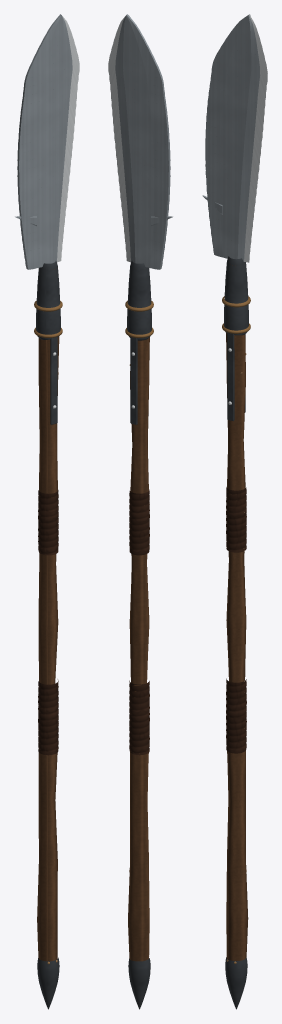
Rendered from glaive.glb.
3 renders of one model, left to right at view 1: azimuth 30°, elevation 25°; view 2: azimuth 150°, elevation 25°; view 3: azimuth 330°, elevation 25°, orthographic.
Parts seen in each view (by area): view 1: steel / forged blade steel, wood / oiled hardwood, darksteel / oil-blackened fittings, leather / oiled leather wrap, edge / honed bright bevel, bronze / cast bronze with patina; view 2: steel / forged blade steel, wood / oiled hardwood, darksteel / oil-blackened fittings, leather / oiled leather wrap, edge / honed bright bevel, bronze / cast bronze with patina; view 3: steel / forged blade steel, wood / oiled hardwood, darksteel / oil-blackened fittings, leather / oiled leather wrap, edge / honed bright bevel, bronze / cast bronze with patina.
Part boxes in pixels (x1,y1,x2,y2): steel / forged blade steel: [15, 14, 72, 269]; wood / oiled hardwood: [37, 267, 59, 961]; darksteel / oil-blackened fittings: [36, 261, 60, 1009]; leather / oiled leather wrap: [38, 490, 58, 755]; edge / honed bright bevel: [53, 16, 79, 408]; bronze / cast bronze with patina: [34, 300, 62, 337]; steel / forged blade steel: [115, 14, 172, 269]; wood / oiled hardwood: [128, 337, 149, 961]; darksteel / oil-blackened fittings: [127, 261, 151, 1009]; leather / oiled leather wrap: [129, 489, 149, 755]; edge / honed bright bevel: [108, 16, 134, 408]; bronze / cast bronze with patina: [125, 300, 153, 337]; steel / forged blade steel: [202, 14, 260, 261]; wood / oiled hardwood: [226, 264, 248, 960]; darksteel / oil-blackened fittings: [224, 256, 248, 1009]; leather / oiled leather wrap: [226, 487, 246, 753]; edge / honed bright bevel: [228, 14, 267, 404]; bronze / cast bronze with patina: [222, 296, 250, 333].
Size of the model in its own units: 0.1542 by 2.25 by 0.0592.
9 materials, 6 textured.
